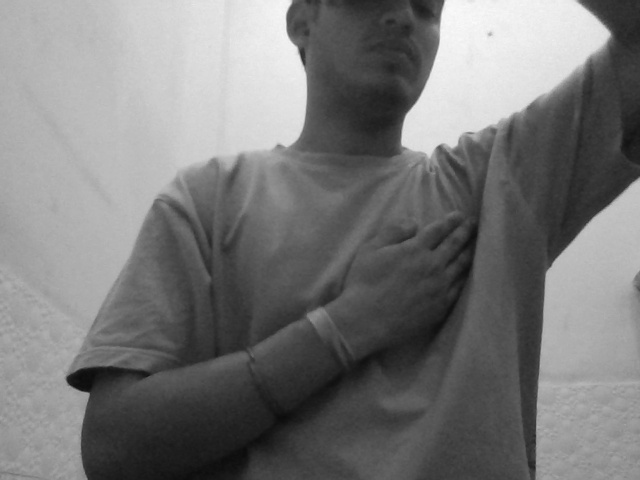Sorry: (299, 187, 517, 349)
